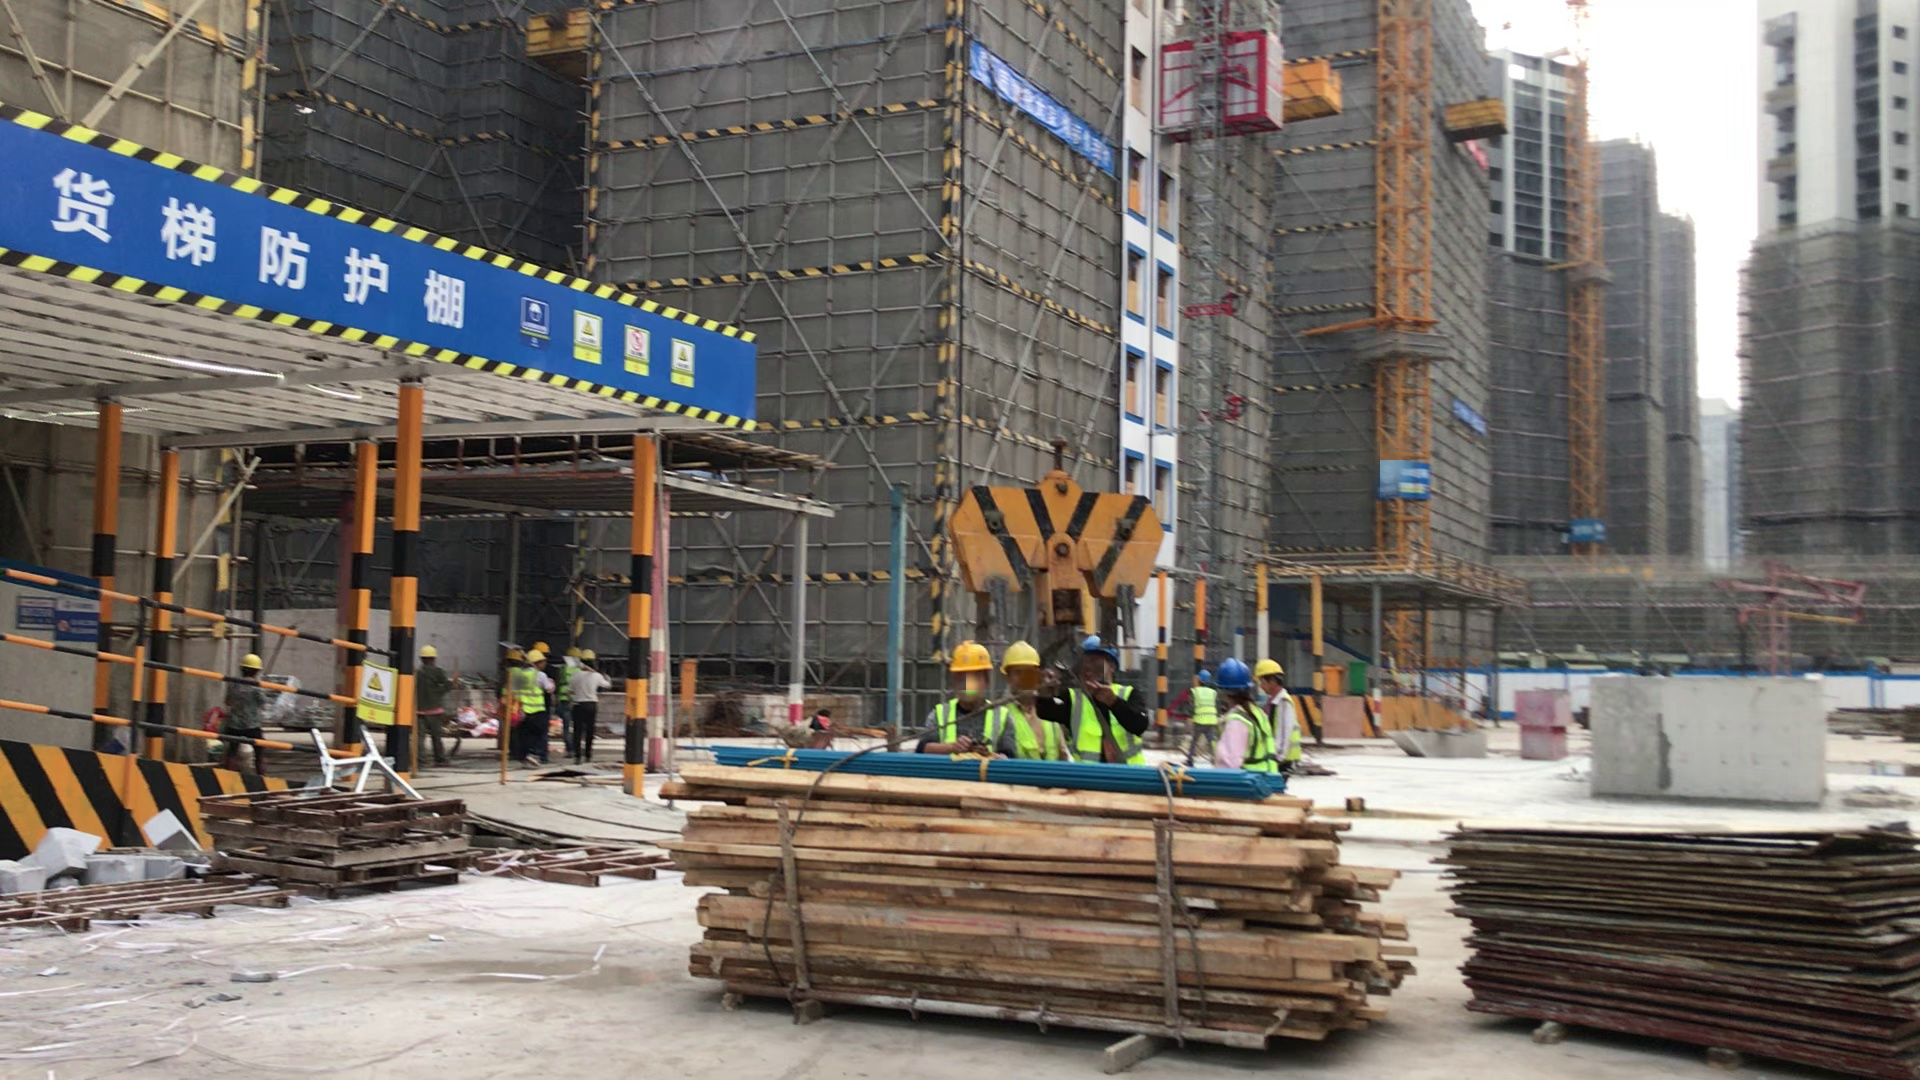board: (1432, 811, 1920, 1076)
handcart: (763, 716, 850, 752)
helmet: (950, 639, 992, 672), (1000, 638, 1042, 671), (1080, 633, 1123, 665), (1216, 657, 1255, 690), (1253, 657, 1287, 681), (238, 652, 264, 672), (521, 647, 545, 662), (419, 643, 439, 660), (505, 648, 522, 664), (1196, 666, 1211, 684), (580, 648, 595, 663), (566, 645, 580, 657)
hook: (954, 443, 1164, 651)
hopper: (1385, 720, 1496, 765)
person: (918, 635, 1014, 754), (988, 634, 1069, 765), (1065, 637, 1150, 757), (1201, 650, 1275, 773), (216, 643, 277, 769), (1253, 650, 1305, 776), (505, 643, 553, 769), (560, 641, 599, 766), (415, 642, 451, 769), (1182, 663, 1218, 761)
slogan: (962, 36, 1124, 190), (512, 280, 697, 395), (353, 650, 398, 735), (1376, 458, 1434, 505), (1449, 391, 1489, 441), (1564, 518, 1611, 548)
wood: (672, 761, 1399, 1052)
